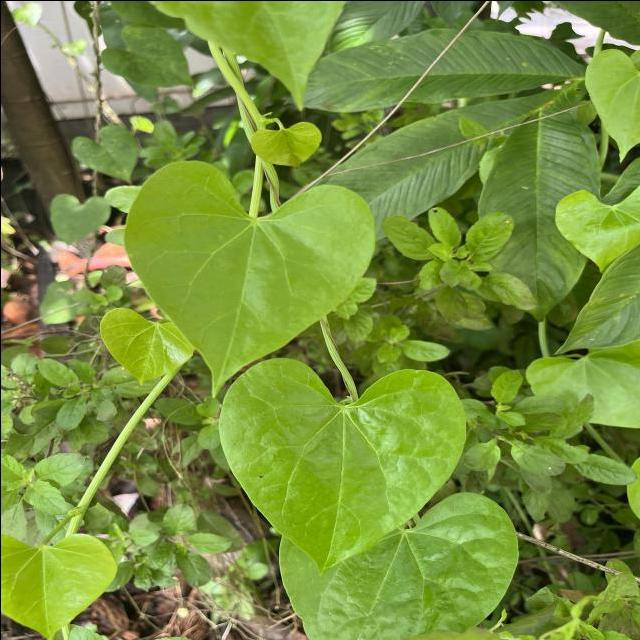Tinospora cordifolia: (120, 156, 378, 400), (214, 353, 468, 578), (274, 486, 520, 640), (0, 529, 119, 640)
